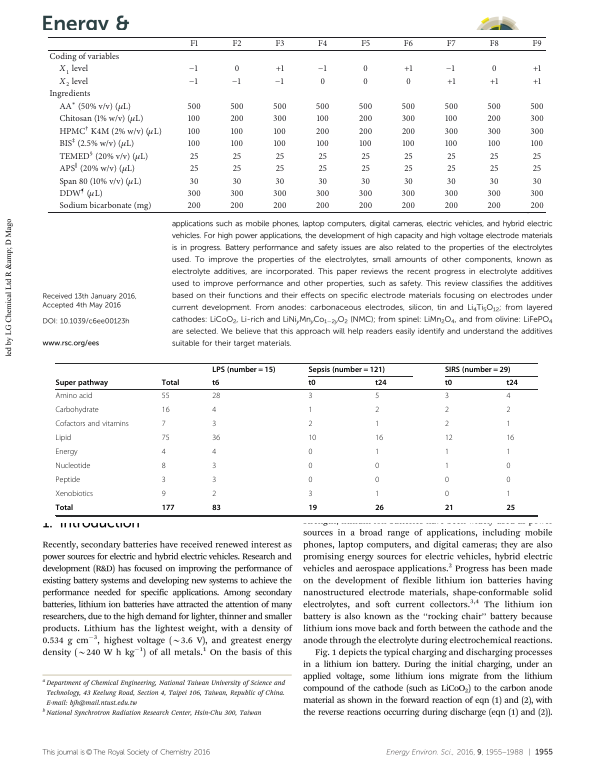borderless: (46, 35, 546, 212), (54, 361, 537, 515)
cell: (58, 122, 163, 139), (58, 148, 149, 164), (58, 111, 144, 126), (58, 173, 143, 188), (58, 160, 136, 176), (58, 135, 135, 151), (58, 98, 132, 114), (58, 201, 152, 212), (55, 419, 130, 429), (58, 185, 104, 201), (48, 52, 120, 62), (307, 365, 386, 374), (444, 365, 511, 374), (211, 365, 276, 374), (55, 378, 109, 388), (58, 73, 89, 90), (58, 61, 89, 77), (48, 89, 91, 100), (55, 405, 100, 415), (55, 489, 94, 499), (55, 391, 93, 401), (55, 461, 91, 471), (55, 475, 81, 485), (55, 447, 78, 457), (188, 73, 200, 89), (231, 73, 243, 89), (274, 73, 286, 89), (161, 378, 180, 388), (55, 503, 74, 513), (188, 61, 200, 76), (317, 61, 329, 76), (229, 114, 245, 125), (229, 201, 245, 212), (55, 433, 72, 443), (446, 61, 457, 76), (272, 114, 287, 125), (358, 114, 373, 125), (401, 114, 416, 125), (487, 114, 502, 125), (530, 114, 545, 125), (315, 126, 330, 137), (358, 126, 373, 137), (401, 126, 416, 137), (444, 126, 459, 137), (487, 126, 502, 137), (530, 126, 545, 137), (187, 201, 202, 212), (272, 201, 287, 212), (315, 201, 330, 212), (358, 201, 373, 212), (401, 201, 416, 212), (444, 201, 459, 212), (487, 201, 502, 212), (530, 201, 545, 212), (229, 102, 245, 112), (229, 189, 245, 199), (187, 114, 201, 125), (316, 114, 330, 125), (444, 114, 458, 125), (187, 126, 201, 137), (230, 126, 244, 137), (273, 126, 287, 137), (187, 139, 201, 150), (230, 139, 244, 150), (273, 139, 287, 150), (316, 139, 330, 150), (359, 139, 373, 150), (401, 139, 415, 150), (444, 139, 458, 150), (487, 139, 501, 150), (530, 139, 544, 150), (187, 102, 202, 112), (272, 102, 287, 112), (315, 102, 330, 112), (358, 102, 373, 112), (401, 102, 416, 112), (444, 102, 459, 112), (487, 102, 502, 112), (530, 102, 545, 112), (187, 189, 202, 199), (272, 189, 287, 199), (315, 189, 330, 199), (358, 189, 373, 199), (401, 189, 416, 199), (444, 189, 459, 199), (487, 189, 502, 199), (530, 189, 545, 199), (374, 378, 388, 388), (505, 378, 519, 388), (161, 503, 175, 513), (274, 39, 285, 50), (317, 39, 328, 50), (360, 39, 371, 50), (403, 39, 414, 50), (446, 39, 457, 50), (489, 39, 500, 50), (532, 39, 543, 50), (403, 64, 414, 75), (360, 151, 371, 162), (403, 151, 414, 162), (446, 151, 457, 162), (317, 176, 328, 187), (360, 176, 371, 187), (403, 176, 414, 187), (446, 176, 457, 187), (211, 503, 222, 513), (307, 503, 318, 513), (374, 503, 385, 513), (505, 503, 516, 513), (189, 39, 199, 50), (232, 39, 242, 50), (275, 64, 285, 75), (532, 64, 542, 75), (189, 151, 199, 162), (232, 151, 242, 162), (275, 151, 285, 162), (318, 151, 328, 162), (489, 151, 499, 162), (532, 151, 542, 162), (360, 164, 371, 174), (403, 164, 414, 174), (446, 164, 457, 174), (189, 176, 199, 187), (232, 176, 242, 187), (275, 176, 285, 187), (489, 176, 499, 187), (532, 176, 542, 187), (211, 391, 221, 401), (211, 433, 221, 443), (307, 433, 317, 443), (374, 433, 384, 443), (444, 433, 454, 443), (505, 433, 515, 443), (444, 503, 454, 513), (446, 77, 456, 87), (489, 77, 499, 87), (532, 77, 542, 87), (189, 164, 199, 174), (232, 164, 242, 174), (275, 164, 285, 174), (318, 164, 328, 174), (489, 164, 499, 174), (532, 164, 542, 174), (211, 378, 220, 388), (307, 378, 316, 388), (444, 378, 453, 388), (161, 391, 170, 401), (161, 405, 170, 415), (161, 433, 170, 443), (362, 64, 369, 75), (362, 77, 369, 87), (405, 77, 412, 87), (234, 64, 240, 75), (491, 64, 497, 75), (307, 391, 313, 401), (374, 391, 380, 401), (444, 391, 450, 401), (505, 391, 511, 401), (211, 405, 217, 415), (307, 405, 313, 415), (374, 405, 380, 415), (444, 405, 450, 415), (505, 405, 511, 415), (161, 419, 167, 429), (211, 419, 217, 429), (307, 419, 313, 429), (374, 419, 380, 429), (444, 419, 450, 429), (505, 419, 511, 429), (161, 447, 167, 457), (211, 447, 217, 457), (307, 447, 313, 457), (374, 447, 380, 457), (444, 447, 450, 457), (505, 447, 511, 457), (161, 461, 167, 471), (211, 461, 217, 471), (307, 461, 313, 471), (374, 461, 380, 471), (444, 461, 450, 471), (505, 461, 511, 471), (161, 475, 167, 485), (211, 475, 217, 485), (307, 475, 313, 485), (374, 475, 380, 485), (444, 475, 450, 485), (505, 475, 511, 485), (161, 489, 167, 499), (211, 489, 217, 499), (307, 489, 313, 499), (374, 489, 380, 499), (444, 489, 450, 499), (505, 489, 511, 499), (320, 77, 326, 87)
